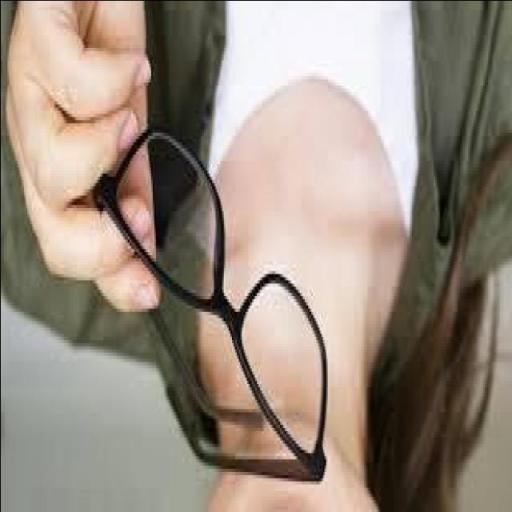glasses: (86, 93, 342, 504)
